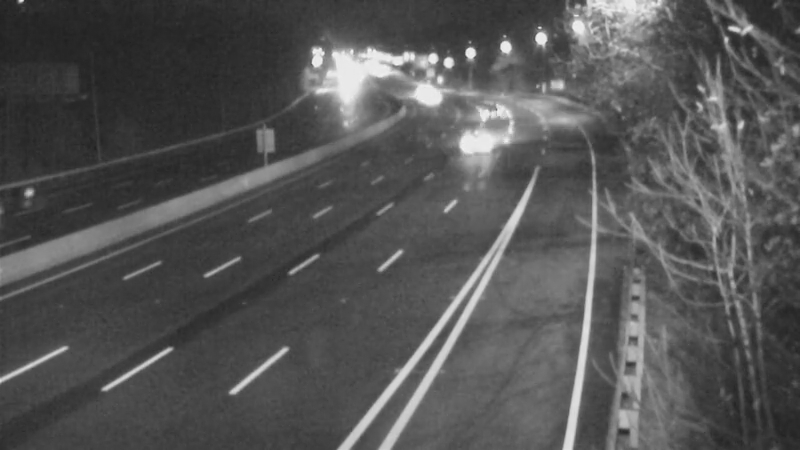vehicle: (1, 158, 68, 238), (394, 66, 444, 116), (405, 73, 455, 123), (462, 87, 512, 137), (460, 118, 510, 168)
